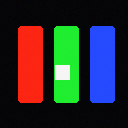1 square: (55, 65, 69, 79)
